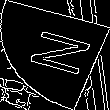N_E: (16, 27, 94, 83)
